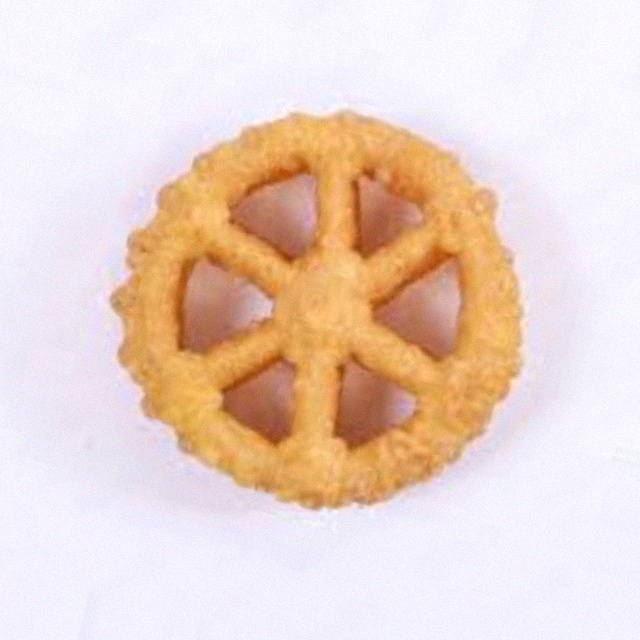Kokis: (108, 64, 532, 576)
